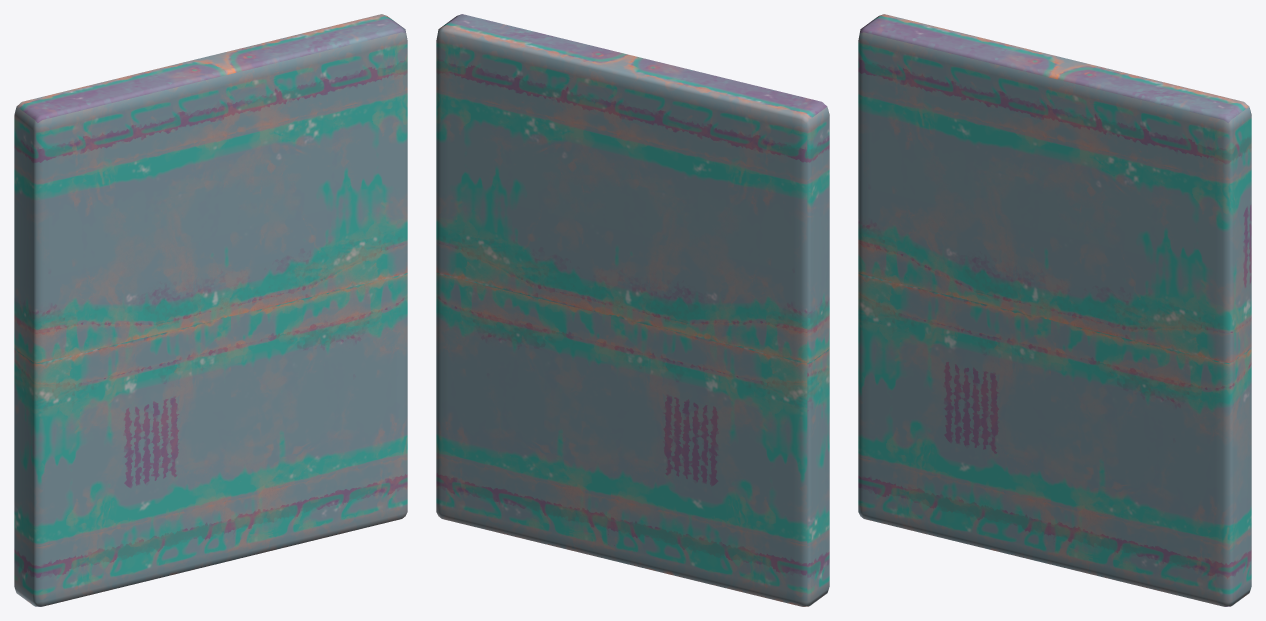
File: wall_default_lp.fbx
3 views of the same model, side by side, from view 1: azimuth 30°, elevation 25°; view 2: azimuth 150°, elevation 25°; view 3: azimuth 330°, elevation 25° (orthographic).
Parts seen in each view (by area): view 1: modularWall_default; view 2: modularWall_default; view 3: modularWall_default.
Part boxes in pixels (box(x1,y1,x2,y2)): modularWall_default: box(14, 14, 407, 606); modularWall_default: box(436, 14, 829, 606); modularWall_default: box(858, 14, 1251, 606).
Bounding box in the file's own units: 339 × 426 × 37.75.
